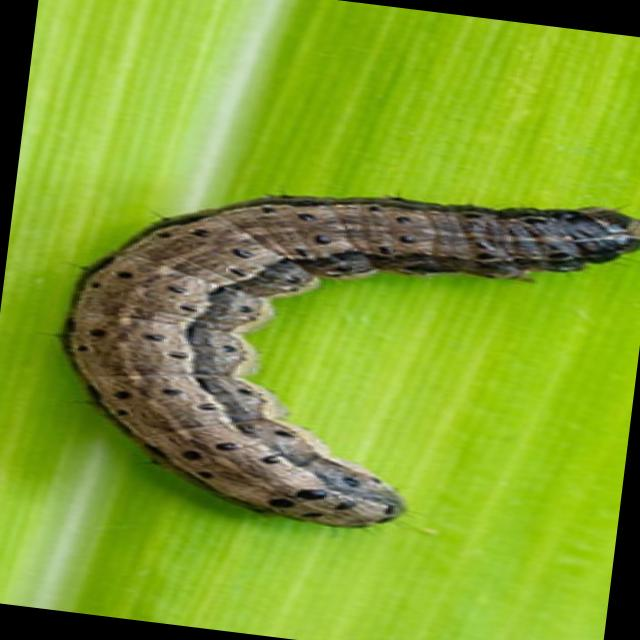Armyworm: (1, 130, 640, 577)
